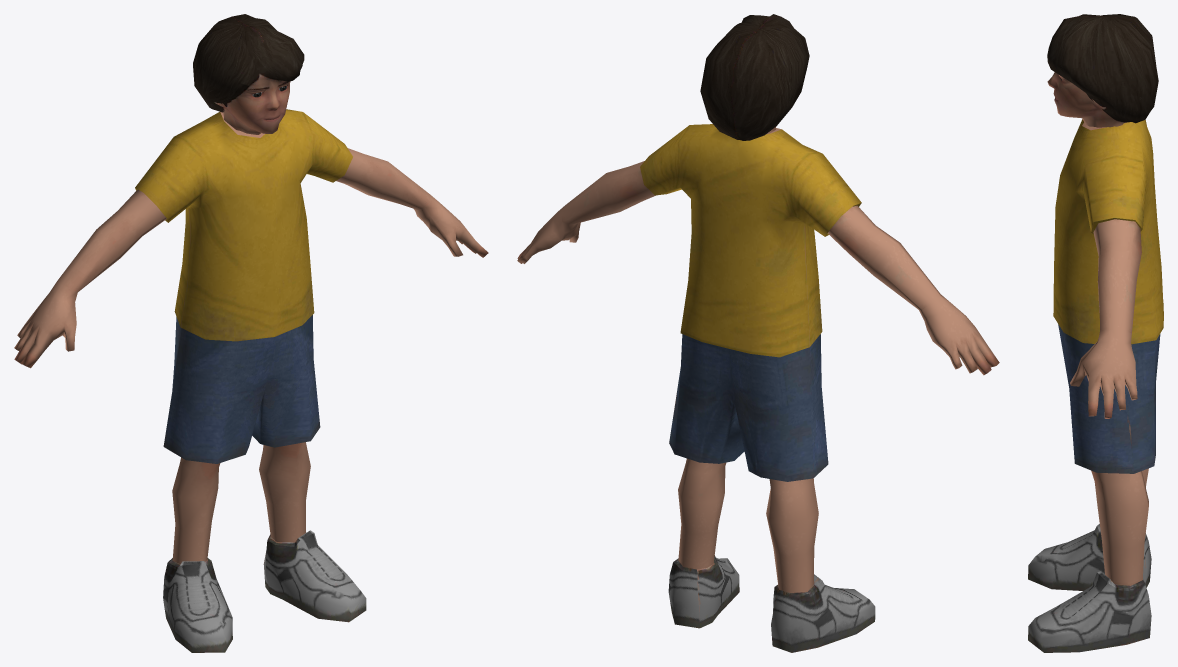
The model's file is KepleriansTeam_J.fbx.
3 renders of one model, left to right at view 1: azimuth 30°, elevation 25°; view 2: azimuth 150°, elevation 25°; view 3: azimuth 270°, elevation 25°, orthographic.
Visible parts, largest first — view 1: Jugador, Jugador_cabeza; view 2: Jugador, Jugador_cabeza; view 3: Jugador, Jugador_cabeza.
Part boxes in pixels (bbox=[...]): Jugador: bbox=[14, 109, 488, 652]; Jugador_cabeza: bbox=[193, 14, 304, 134]; Jugador: bbox=[517, 124, 999, 652]; Jugador_cabeza: bbox=[700, 14, 809, 140]; Jugador: bbox=[1028, 119, 1163, 652]; Jugador_cabeza: bbox=[1047, 14, 1158, 127].
Size of the model in its own units: 106 by 128 by 26.6.
